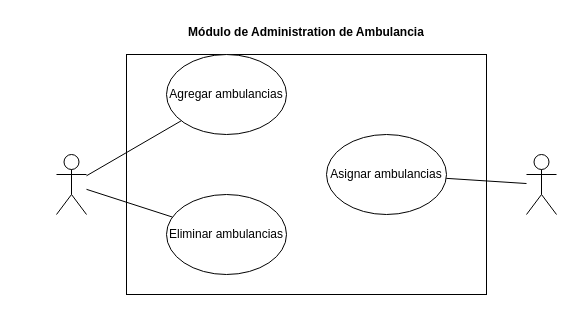
This 586x312 diagram has some shape labels left out. The shapes that lost their labels are listed below. From the top down, each one's centre as x and y in pixels, then its label:
At point (71, 184): "Gerente Autenticado".
At point (541, 184): "Secretaria".
